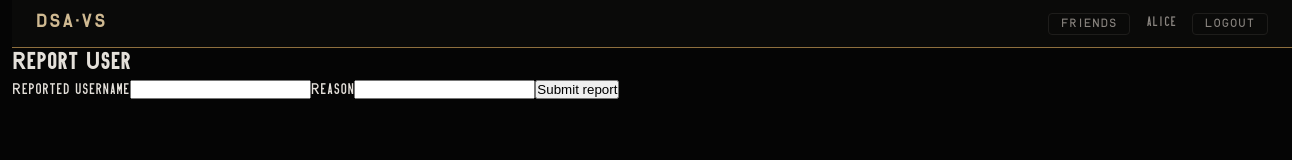
Test case: reports › submits a user report
Step 1. Type "bob" into the field labelled "Reported username" → coordinates (220, 90), box [130,80,311,99]
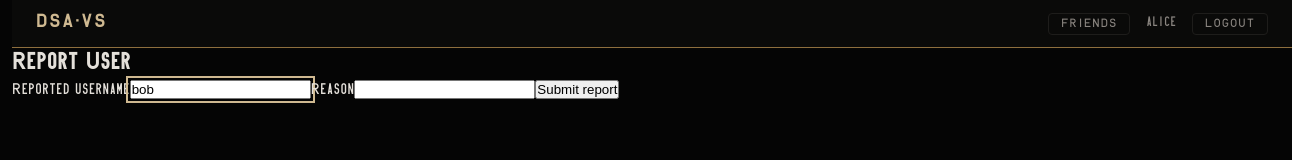
Step 2. Type "abuse" into the field labelled "Reason" → coordinates (445, 90), box [354,80,535,99]
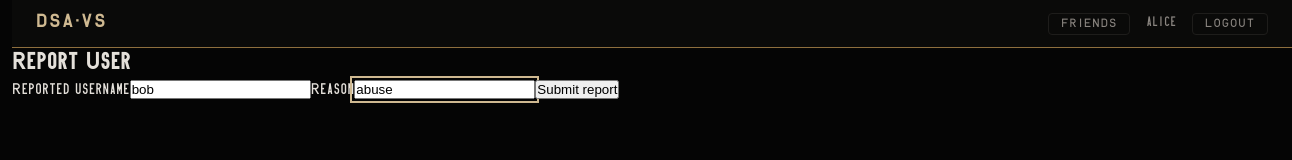
Step 3. Click the button "Submit report" → coordinates (577, 90), box [535,80,619,99]
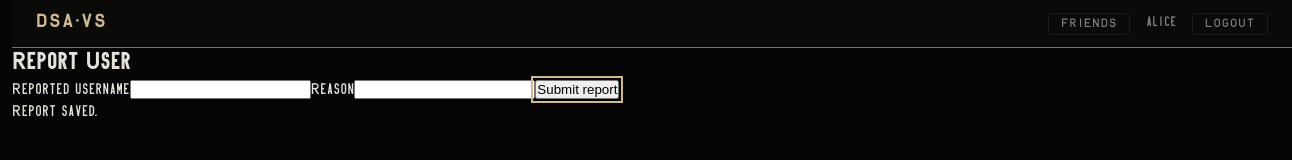
Now the text "Report saved." is shown, box [12,106,97,119]
